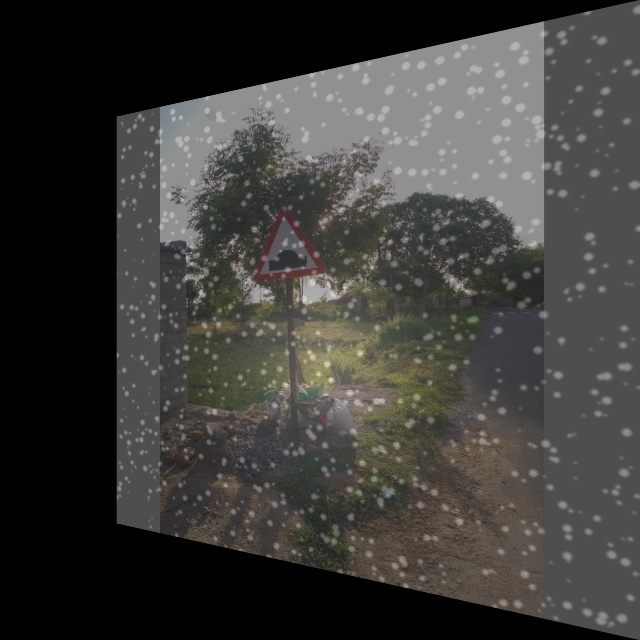Hump_or_Rough_Road: (255, 204, 326, 281)
